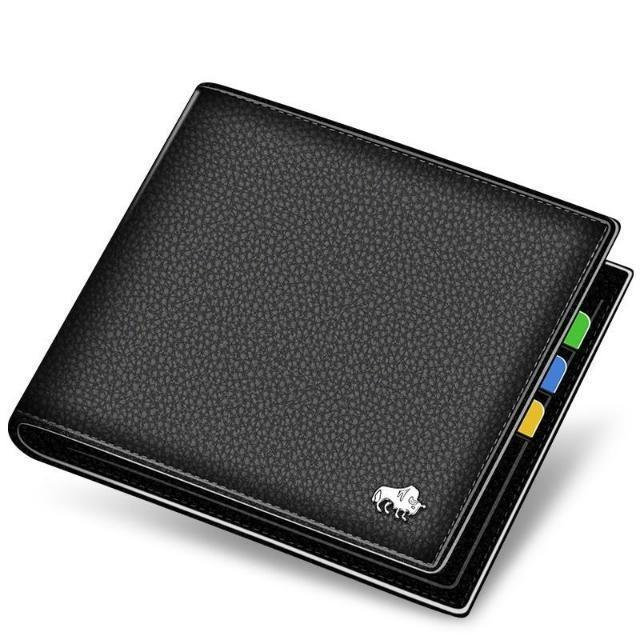Wallet: (10, 84, 630, 614)
